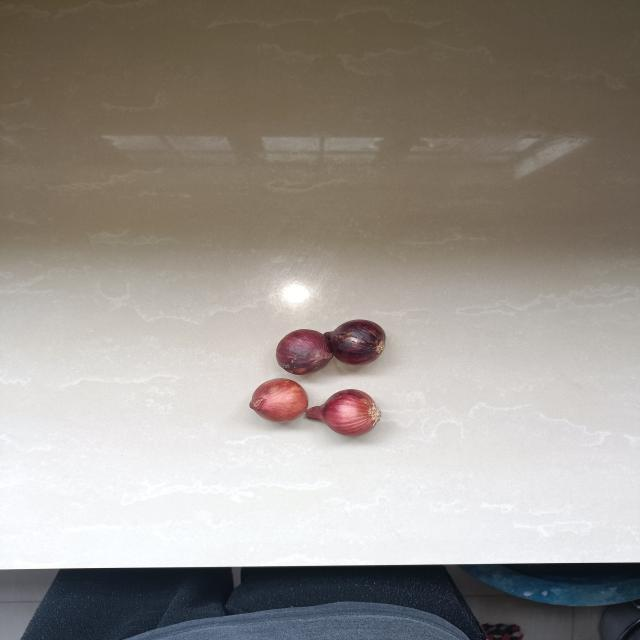onion: (310, 386, 382, 442), (323, 317, 390, 367), (246, 376, 314, 425), (269, 327, 335, 377)
